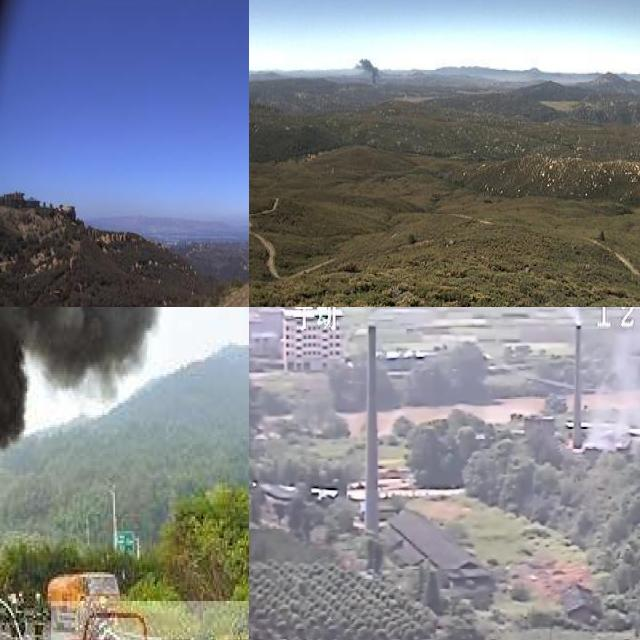smoke: (0, 307, 249, 545), (583, 307, 640, 450), (352, 53, 381, 91)
